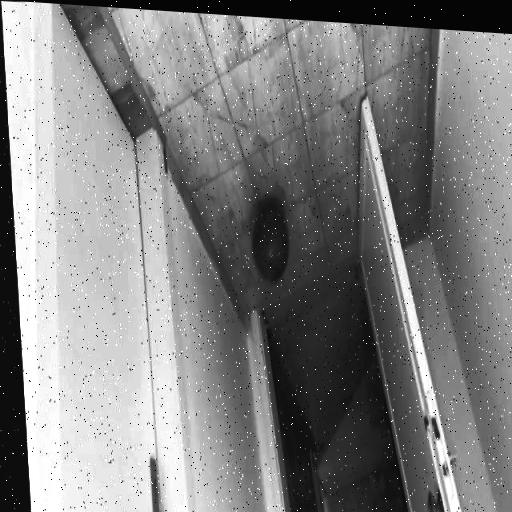balloon: (244, 186, 290, 299)
